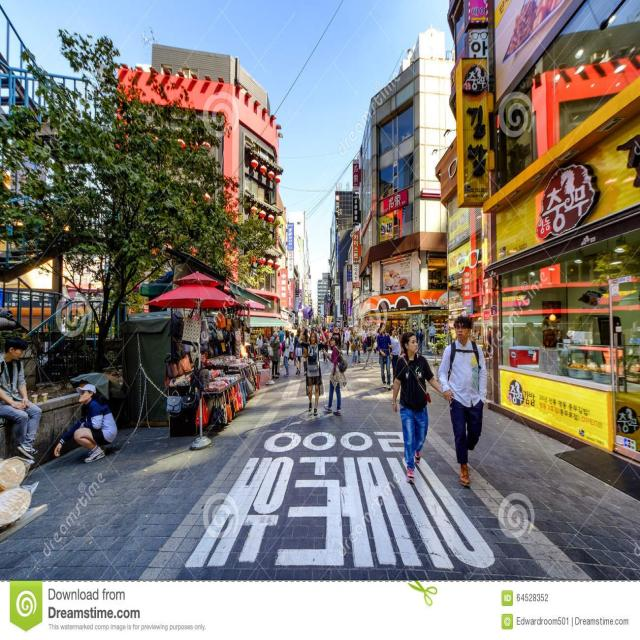body: (390, 329, 454, 486), (435, 314, 489, 489), (52, 381, 120, 466), (0, 334, 43, 461), (296, 320, 328, 418), (504, 300, 562, 345), (321, 334, 349, 418), (375, 321, 395, 390), (299, 320, 381, 335), (387, 326, 402, 387), (266, 331, 280, 378), (411, 318, 436, 343), (293, 326, 304, 376), (348, 327, 360, 367), (281, 329, 291, 377), (270, 331, 280, 379), (301, 328, 310, 378), (319, 324, 330, 362), (353, 326, 362, 364), (343, 323, 352, 357), (361, 326, 371, 355), (288, 332, 296, 366), (332, 324, 342, 350), (256, 332, 264, 364), (373, 327, 382, 355), (416, 326, 424, 355), (362, 326, 368, 355), (262, 333, 267, 363), (277, 325, 285, 343), (316, 335, 322, 359), (396, 324, 403, 343), (341, 330, 345, 350), (389, 326, 393, 336)
